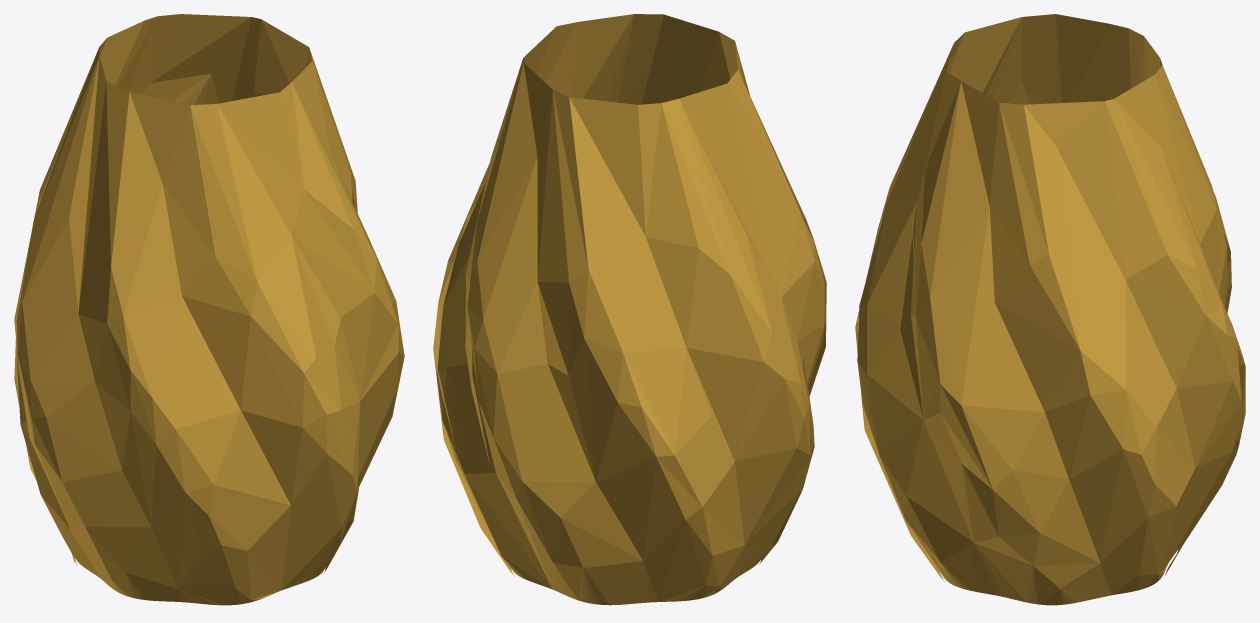
File: jarron-ar.glb
3 views of the same model, side by side, from view 1: azimuth 30°, elevation 25°; view 2: azimuth 150°, elevation 25°; view 3: azimuth 270°, elevation 25° (orthographic).
Parts seen in each view (by area): view 1: Jarrón espiral; view 2: Jarrón espiral; view 3: Jarrón espiral.
Part boxes in pixels (x1,y1,x2,y2): Jarrón espiral: [14, 14, 404, 606]; Jarrón espiral: [433, 14, 826, 606]; Jarrón espiral: [855, 14, 1245, 605].
Bounding box in the file's own units: 0.143 × 0.2 × 0.143.
